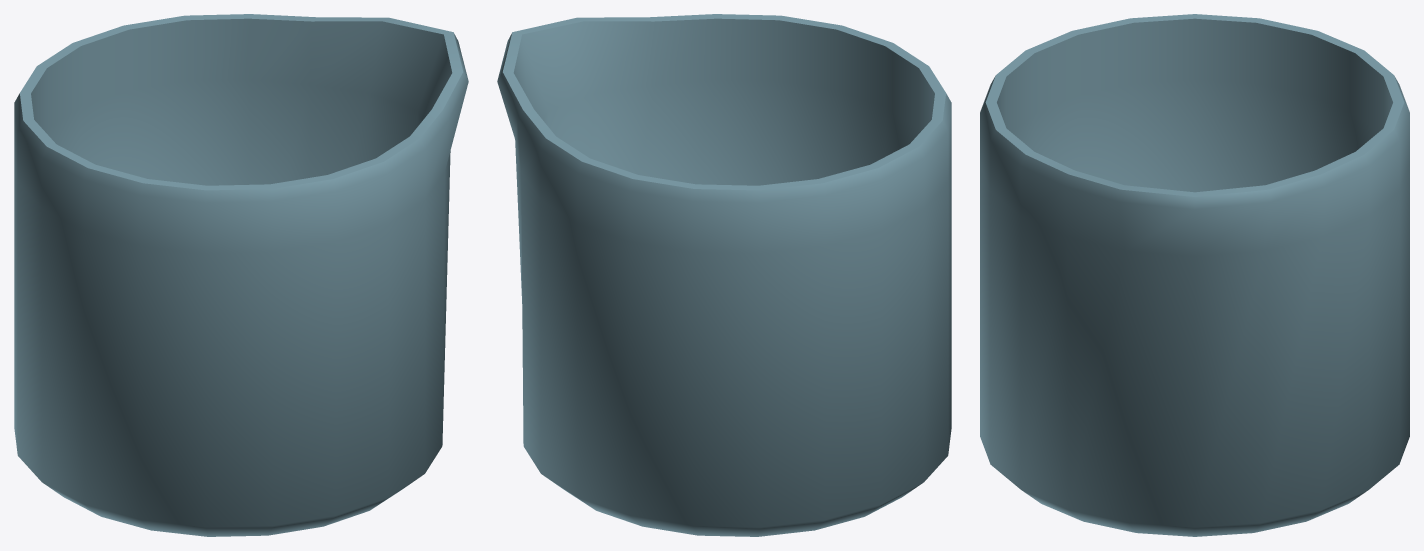
Rendered from oil_cup.glb.
The picture shows the model from 3 angles, left to right: view 1: azimuth 30°, elevation 25°; view 2: azimuth 150°, elevation 25°; view 3: azimuth 270°, elevation 25°; orthographic projection.
Visible parts, largest first — view 1: body; view 2: body; view 3: body.
Part boxes in pixels (x1,y1,x2,y2): body: (14,14,468,536); body: (497,14,951,536); body: (980,14,1409,536).
Size of the model in its own units: 0.086 by 0.073 by 0.077.
